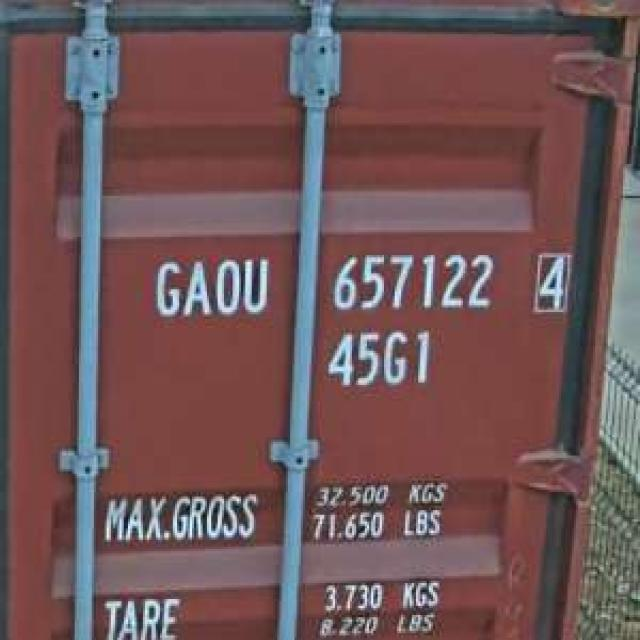dv: (528, 248, 575, 321)
owner: (149, 248, 273, 326)
serial: (324, 244, 502, 319)
size: (322, 324, 435, 396)
